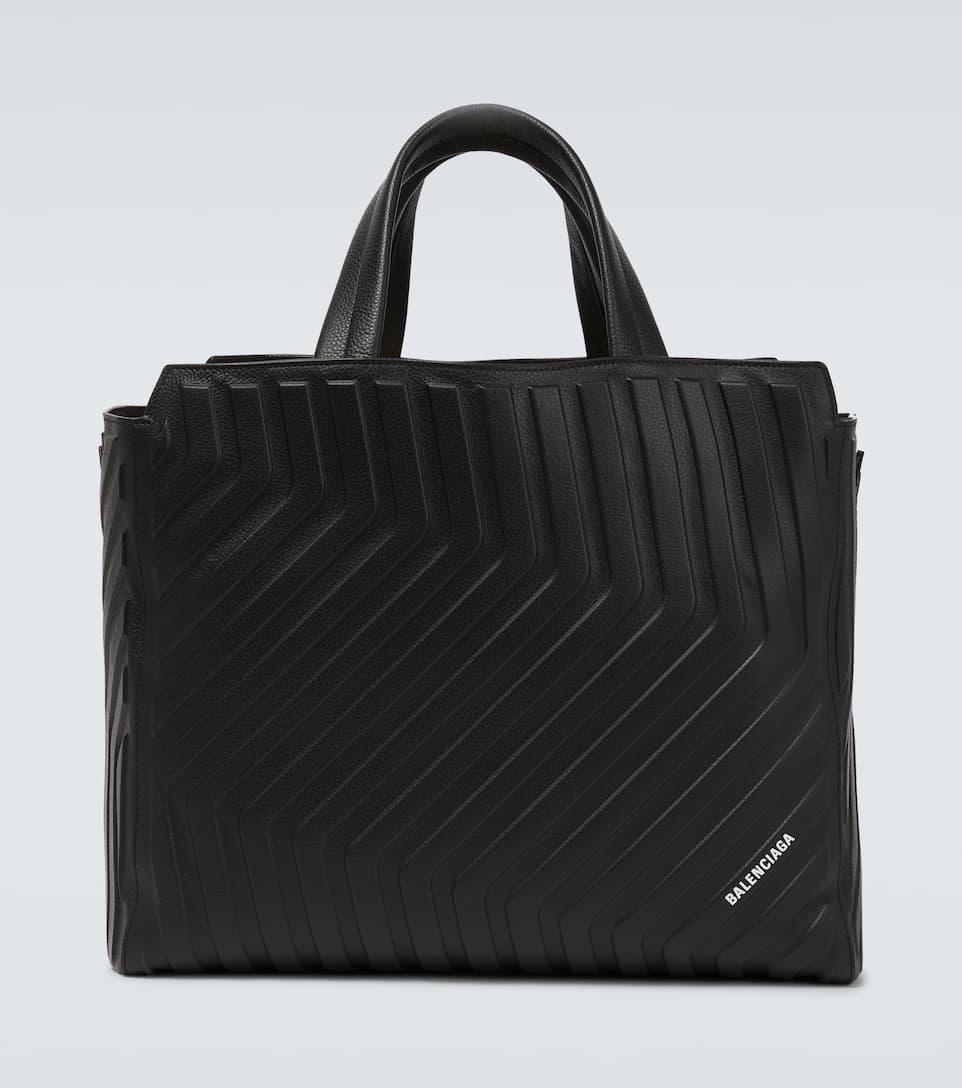BALENCIAGA: (725, 834, 796, 906)
